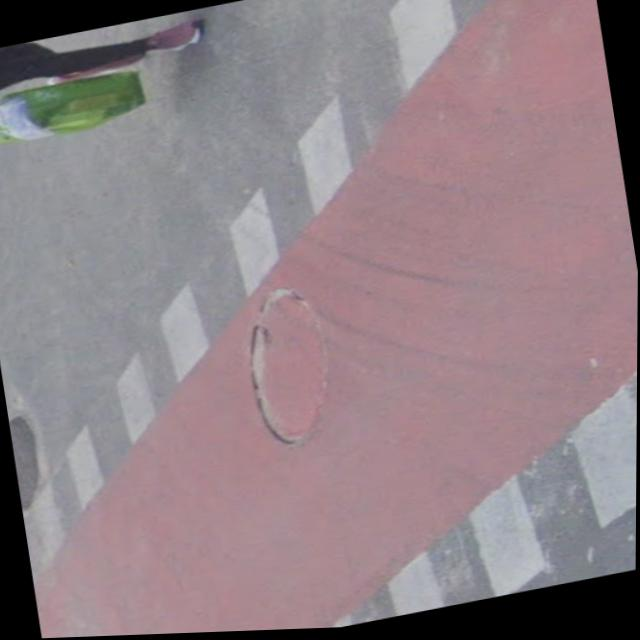Bueiro: (220, 280, 362, 464)
